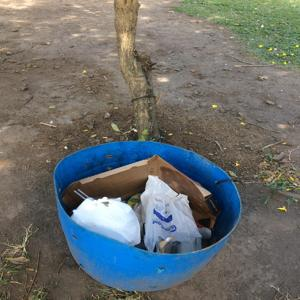cardboard: (73, 159, 207, 199)
plastic: (139, 180, 198, 245), (74, 197, 147, 245)
